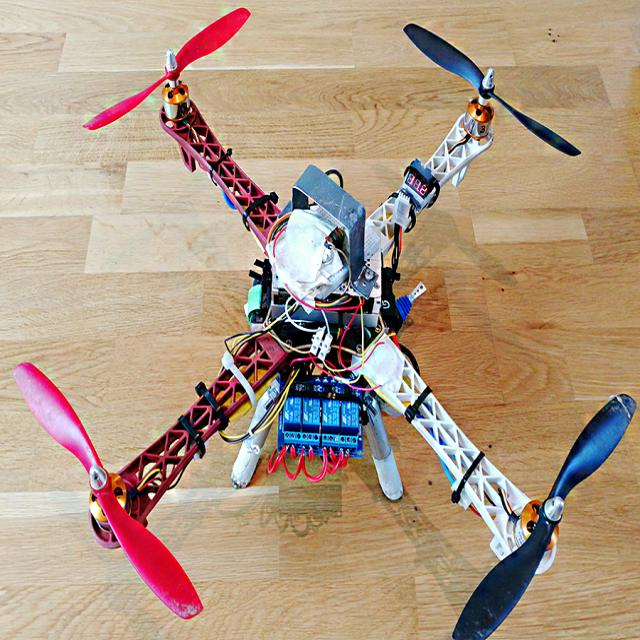drone: (22, 19, 596, 609)
